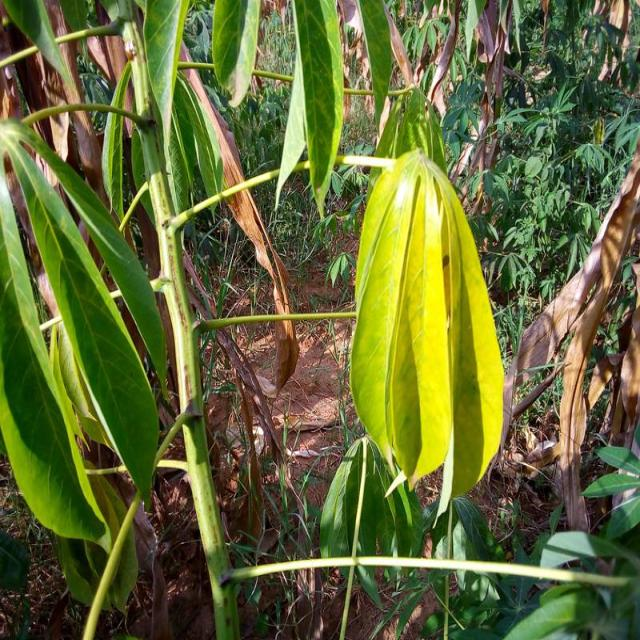cassava leaf: (348, 146, 505, 519)
